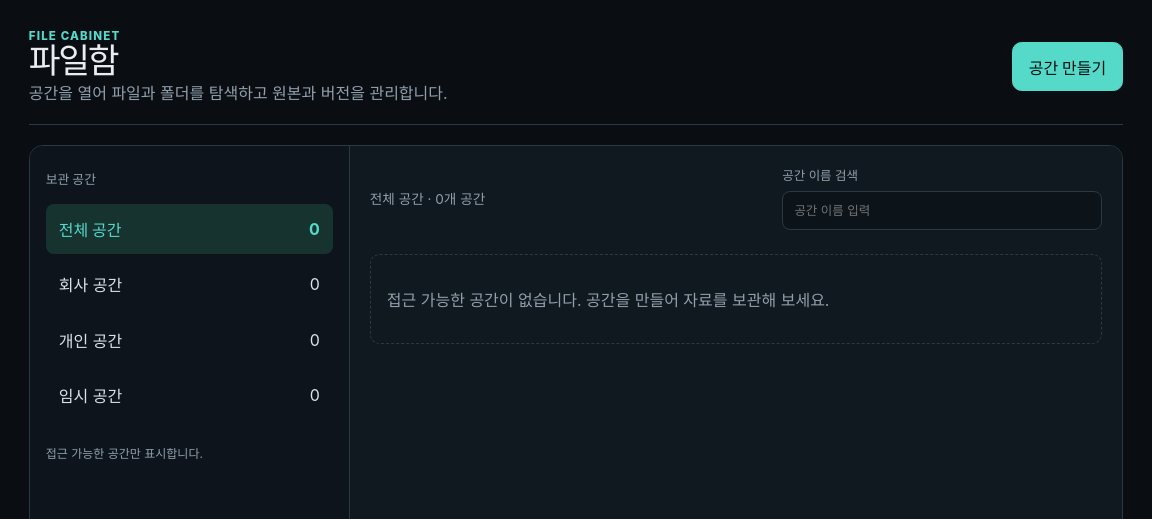
retains the failed draft and safely distinguishes HTTP 403
This screenshot has width=1152, height=519.
Click the button "공간 만들기": (1068, 66) top-left (1012, 42), bottom-right (1123, 91)
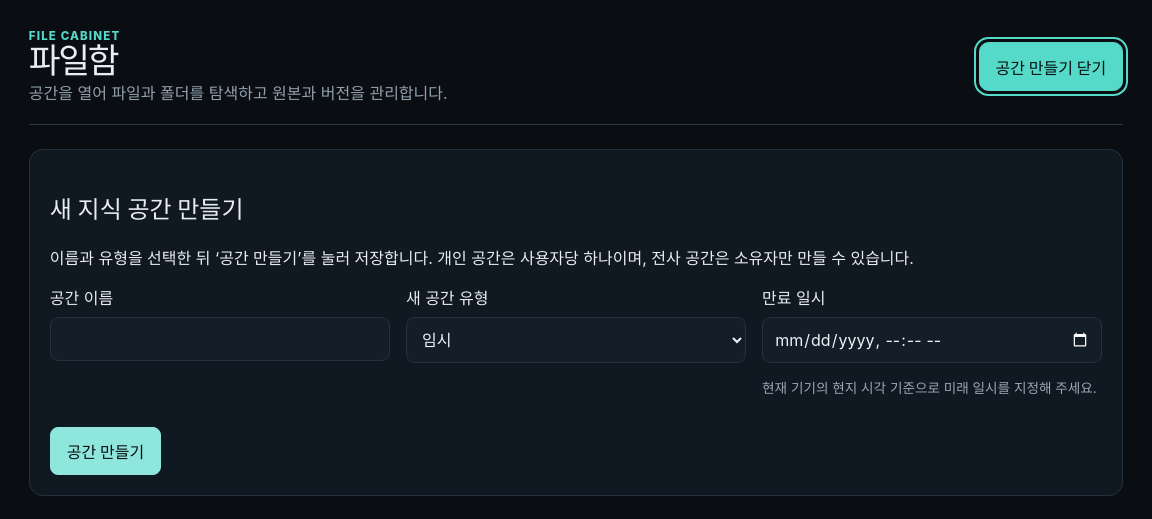
In the field labelled "공간 이름": (220, 339) top-left (50, 317), bottom-right (390, 362), type "Retained draft"
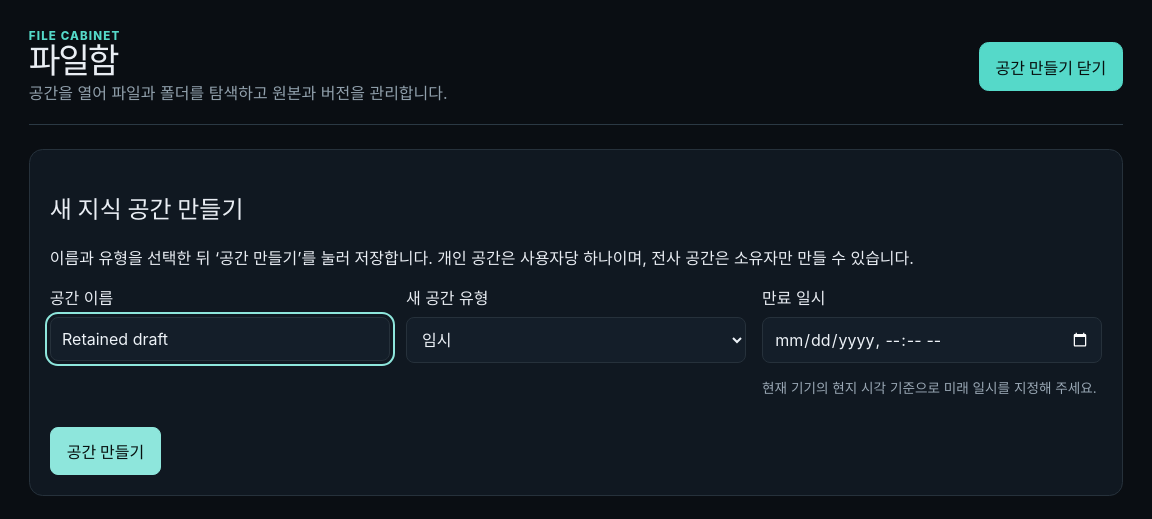
Select "개인" in the dropdown labelled "새 공간 유형": (576, 340) top-left (406, 317), bottom-right (746, 364)
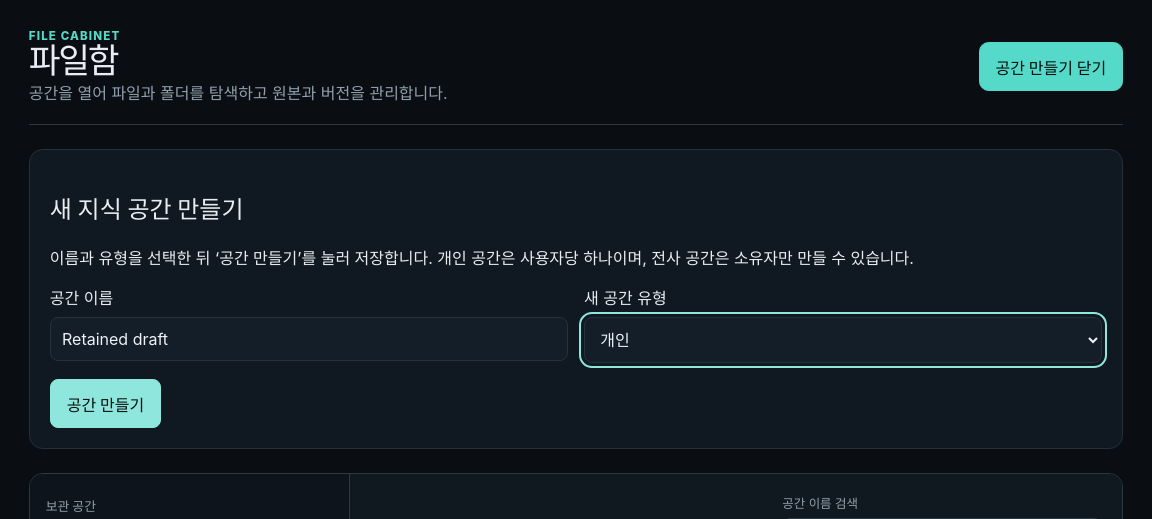
Click the button "공간 만들기": (106, 404) top-left (50, 380), bottom-right (161, 428)
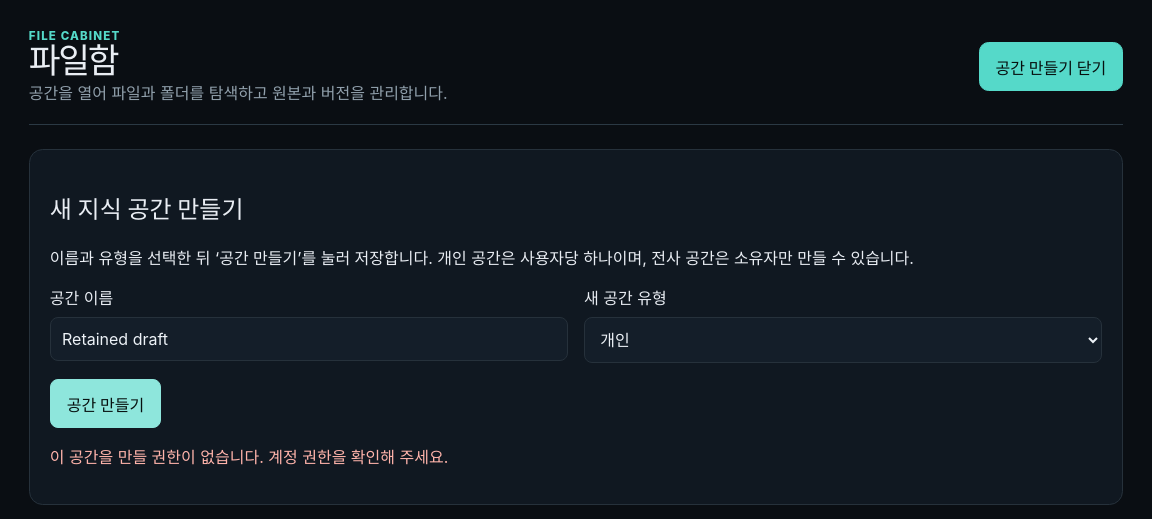
Result: the button "공간 만들기" is enabled at top-left (50, 380), bottom-right (161, 428)
Result: the message shows "권한" at top-left (50, 447), bottom-right (448, 467)
